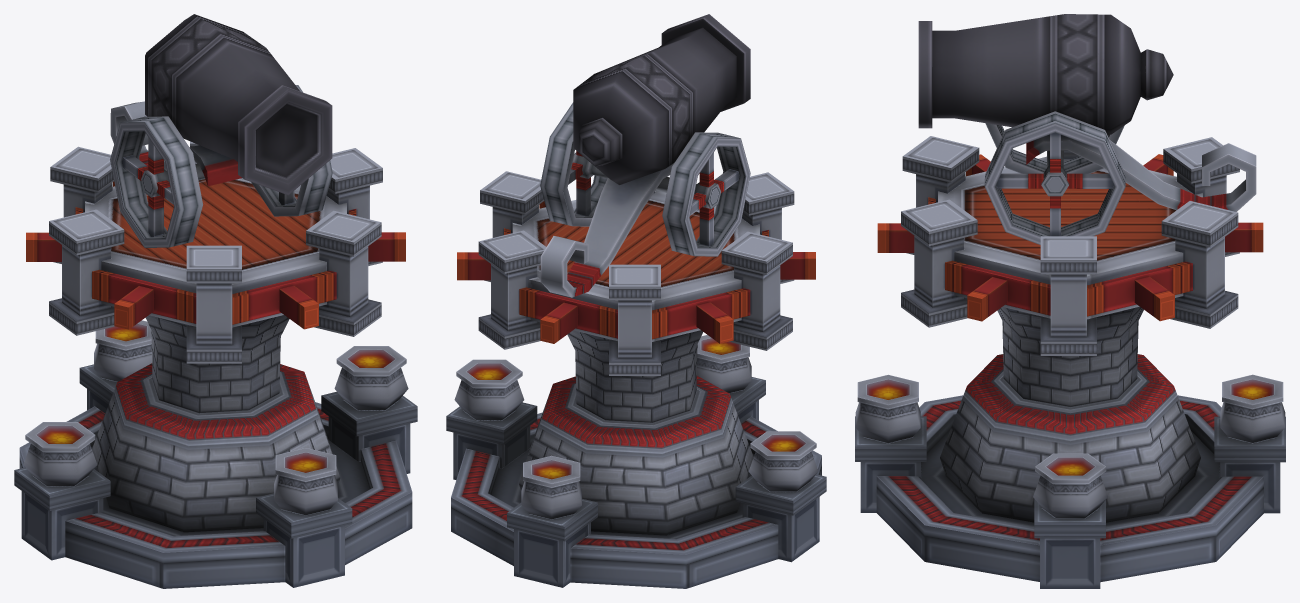
File: CannonTower_Level3_F.FBX
3 renders of one model, left to right at view 1: azimuth 30°, elevation 25°; view 2: azimuth 150°, elevation 25°; view 3: azimuth 270°, elevation 25°, orthographic. The views are drawn at different scales.
Parts seen in each view (by area): view 1: CannonTower_Level3, CannonTower_Cannon003; view 2: CannonTower_Level3, CannonTower_Cannon003; view 3: CannonTower_Level3, CannonTower_Cannon003.
Part boxes in pixels (x1,y1,x2,y2): CannonTower_Level3: (14, 141, 417, 588); CannonTower_Cannon003: (110, 14, 332, 247); CannonTower_Level3: (446, 171, 826, 588); CannonTower_Cannon003: (540, 14, 750, 297); CannonTower_Level3: (855, 136, 1285, 588); CannonTower_Cannon003: (918, 14, 1256, 244).
Bounding box in the file's own units: 57.12 × 70.99 × 57.12.
